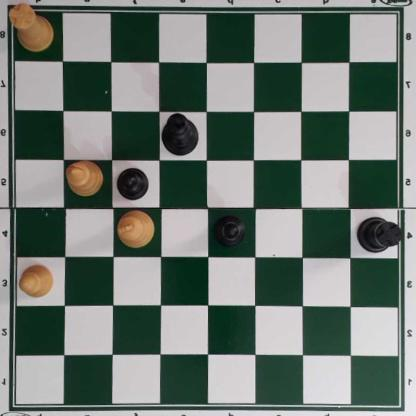black-king: (161, 112, 200, 155)
black-pawn: (212, 215, 246, 249), (117, 165, 149, 200)
black-rook: (357, 214, 401, 253)
white-bishop: (66, 159, 105, 198)
white-king: (118, 208, 154, 248)
white-pawn: (19, 262, 55, 298)
white-rook: (7, 1, 55, 51)
